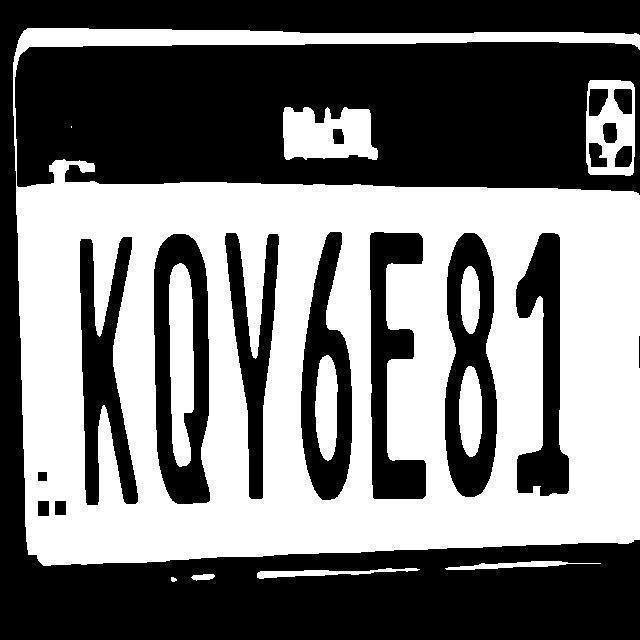1: (512, 230, 575, 500)
6: (294, 228, 361, 496)
8: (441, 231, 499, 501)
e: (368, 226, 425, 503)
k: (76, 231, 138, 508)
q: (150, 232, 211, 504)
y: (219, 229, 282, 501)
